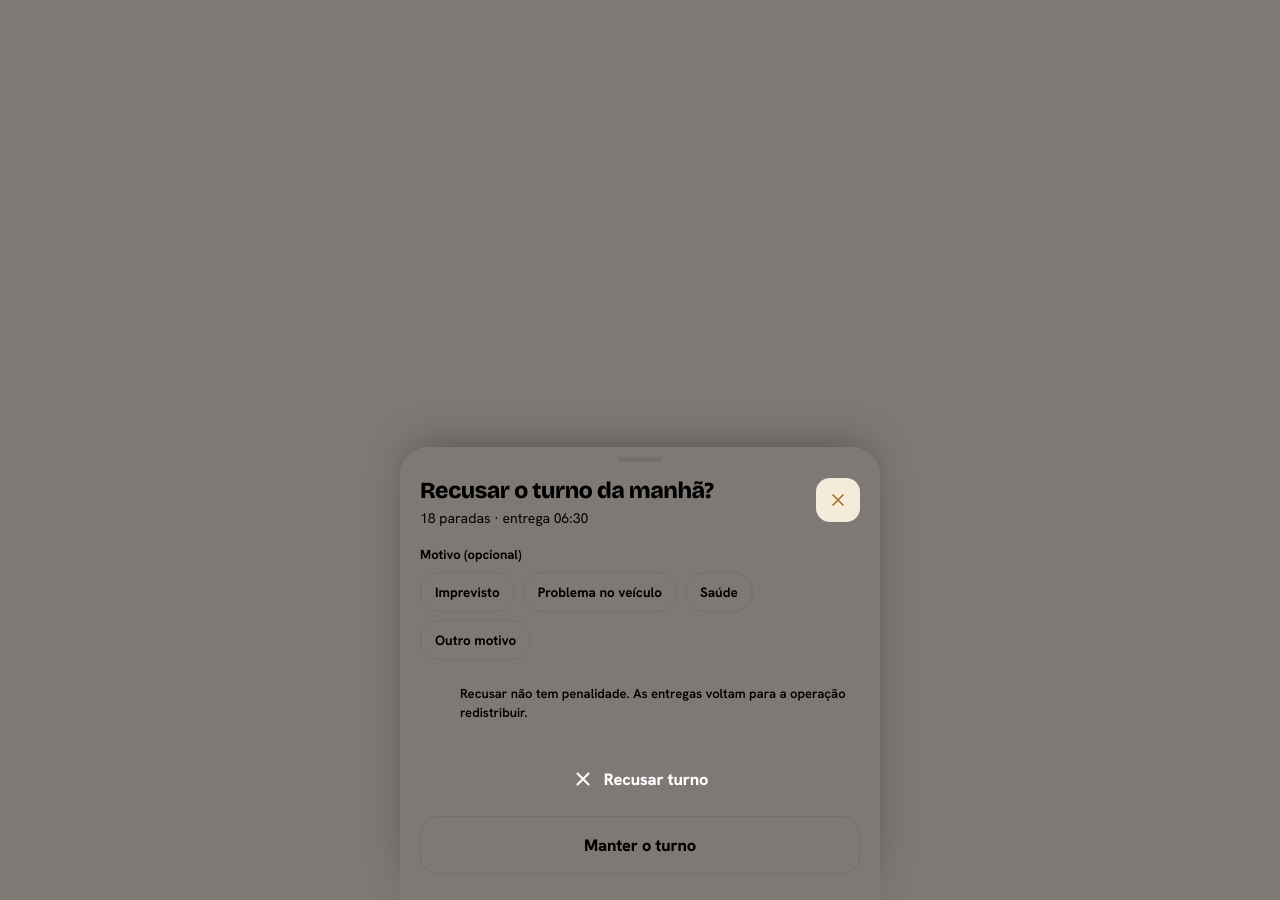
Test: turno oferecido › recusar: motivo opcional (tocar de novo desmarca), sem penalidade, sem sinal aponta a operação
Check: the text "Recusar não tem penalidade. As entregas voltam para a operação redistribuir." is shown, box [460,685,847,723]
Click the radio button labelled "Saúde": (719, 592) [685,572,753,612]
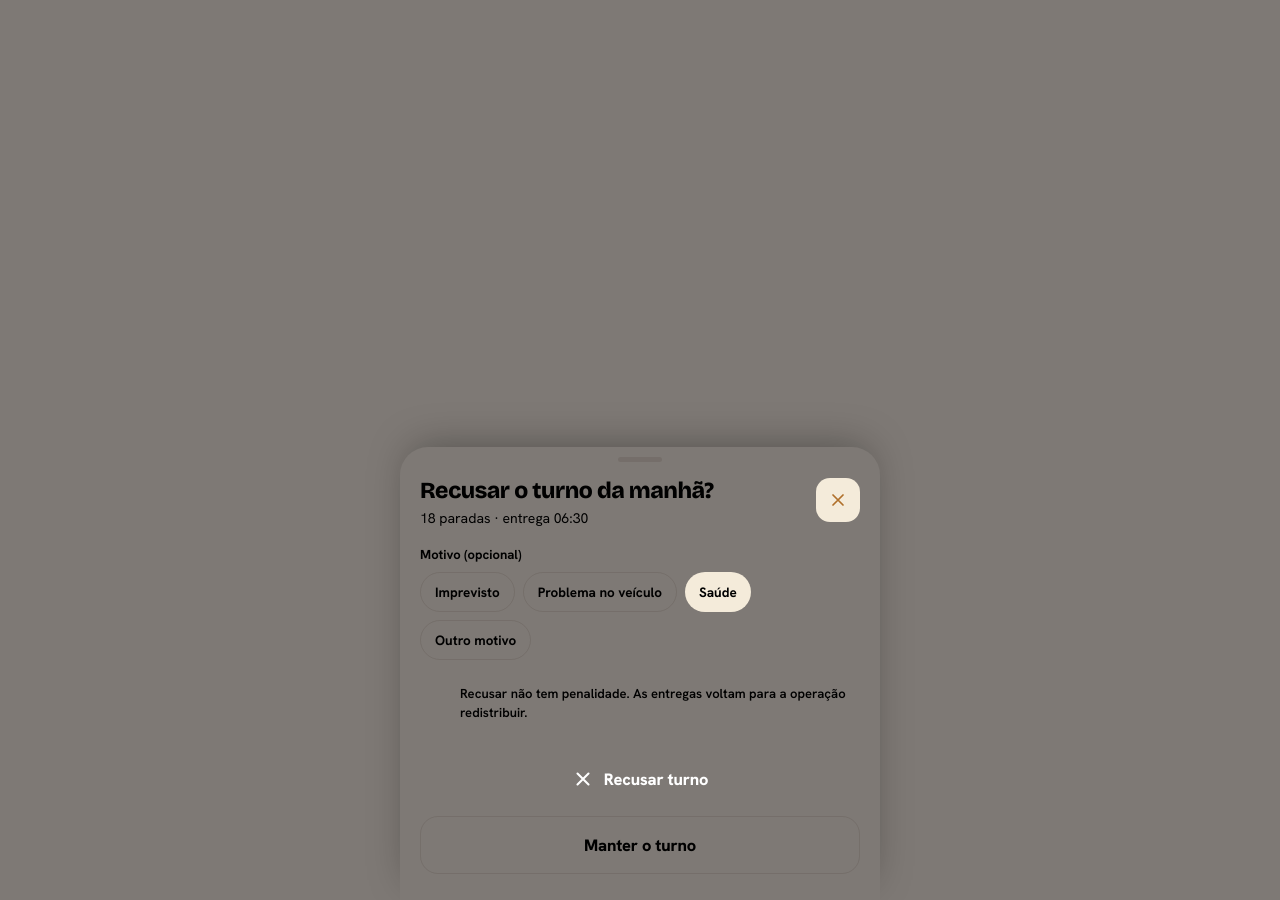
Click the radio button labelled "Saúde": (718, 592) [685,572,751,612]
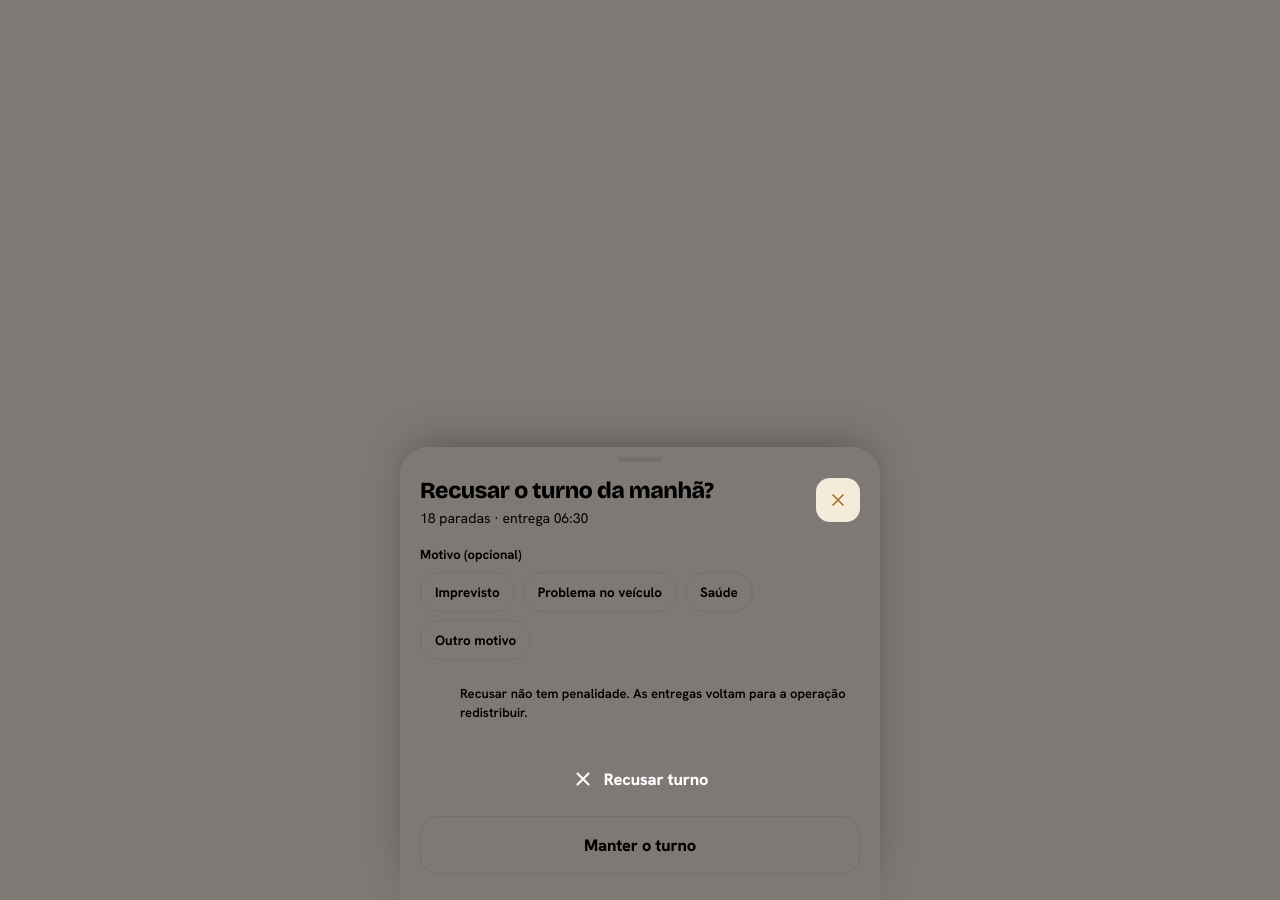
Check: the radio button labelled "Saúde" is not checked, box [685,572,753,612]
Click the radio button labelled "Problema no veículo": (600, 592) [523,572,677,612]
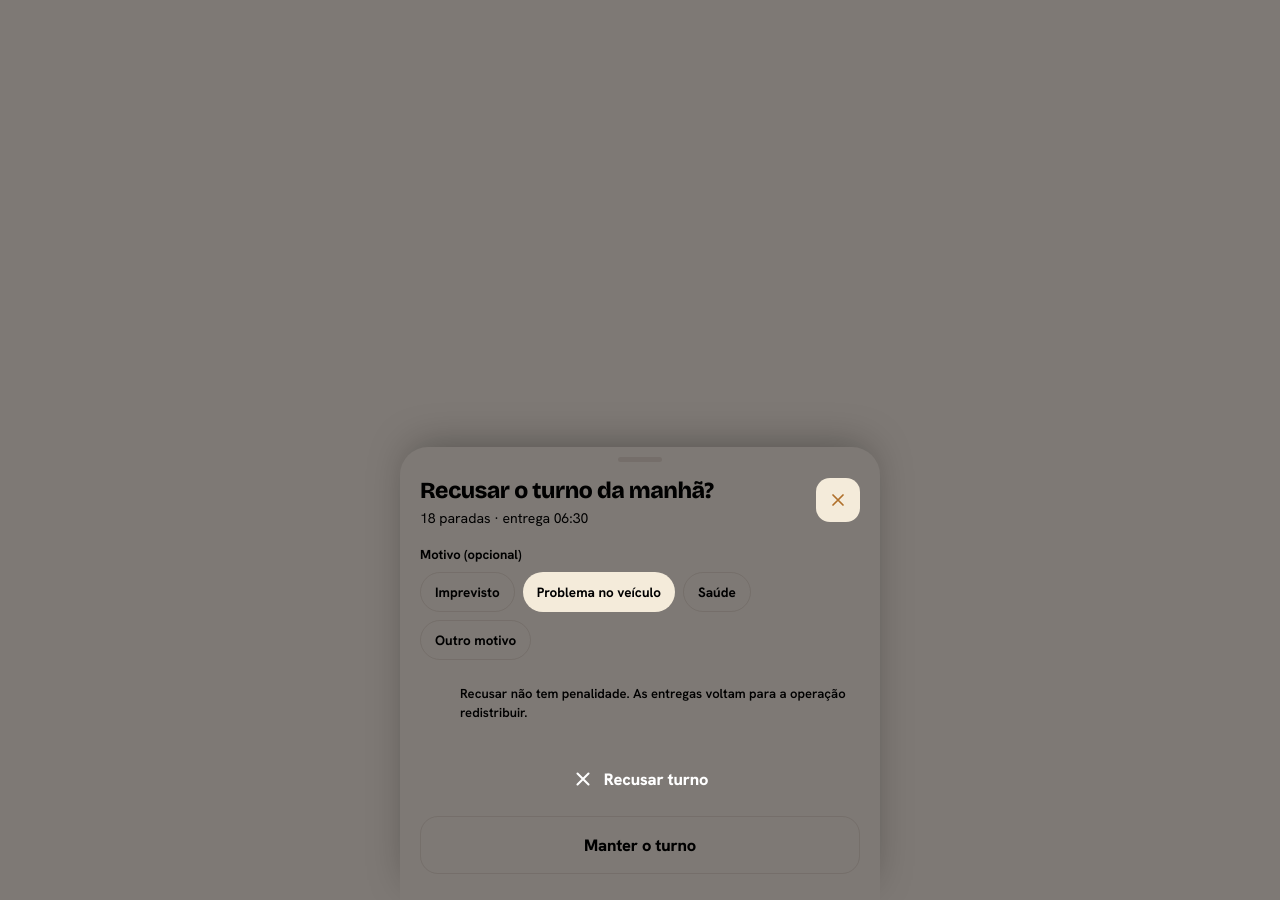
Click the button "Recusar turno": (640, 779) [420,750,860,808]
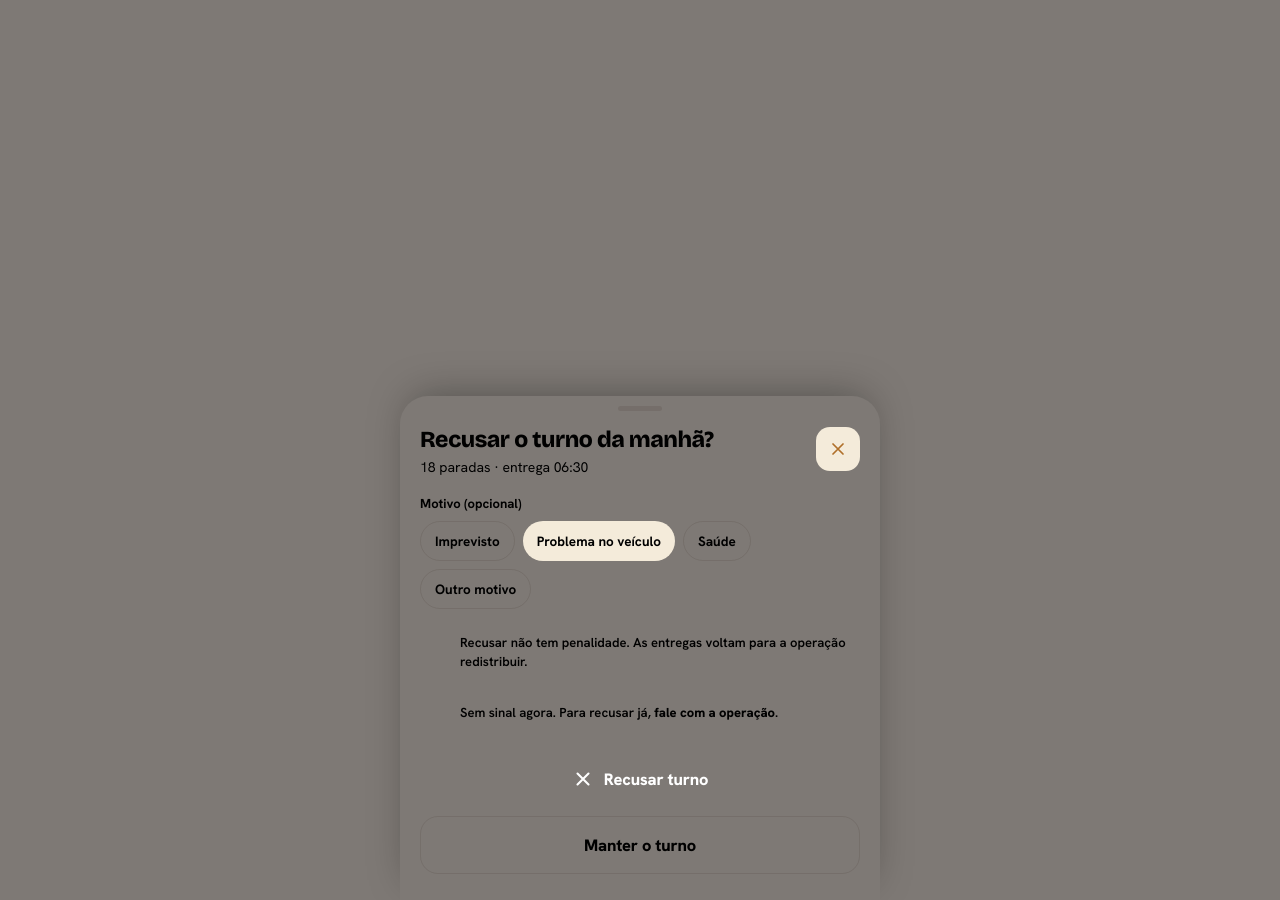
Click the button "Recusar turno": (640, 779) [420,750,860,808]
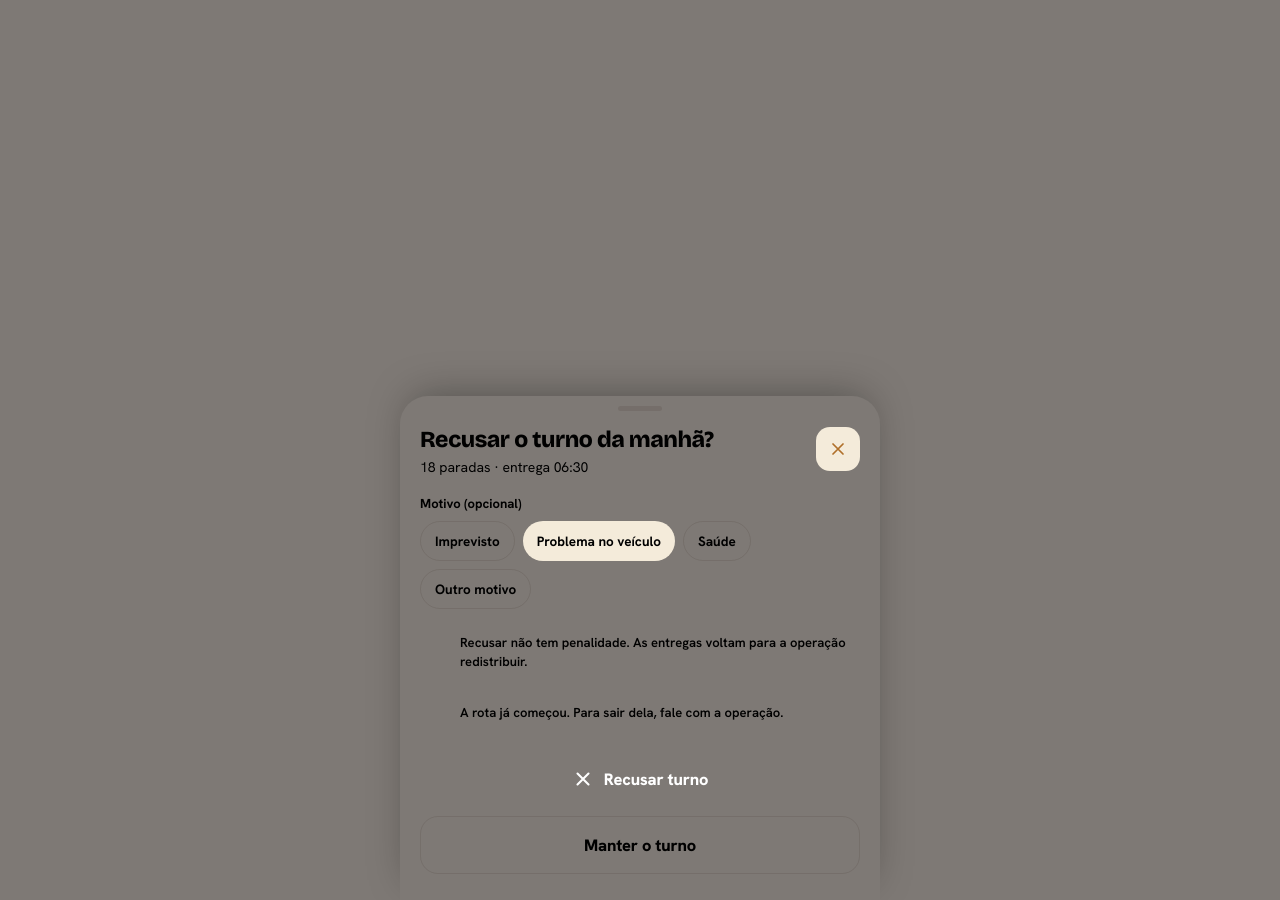
Check: the button "Manter o turno" is shown, box [420,816,860,874]
Check: the text "A rota já começou. Para sair dela, fale com a operação." is shown, box [460,704,783,721]
